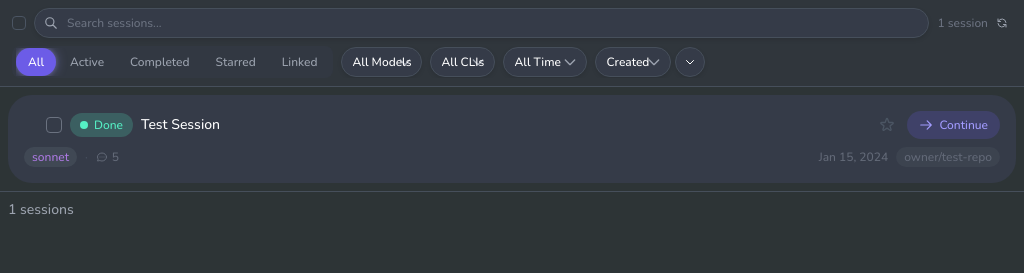
SessionList › Bulk Operations › shows bulk actions bar when sessions are selected
The image size is (1024, 273).
Click the checkbox to select the session
Click the button titled "Select": click(54, 125) [46,117,62,133]
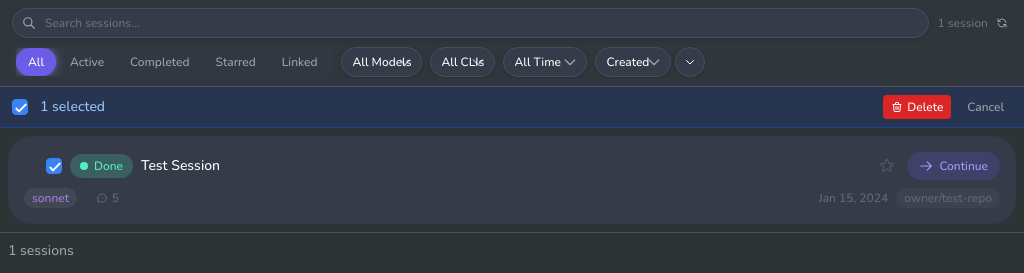
Expected: the text "1 selected" is shown, [40,97,105,117]
